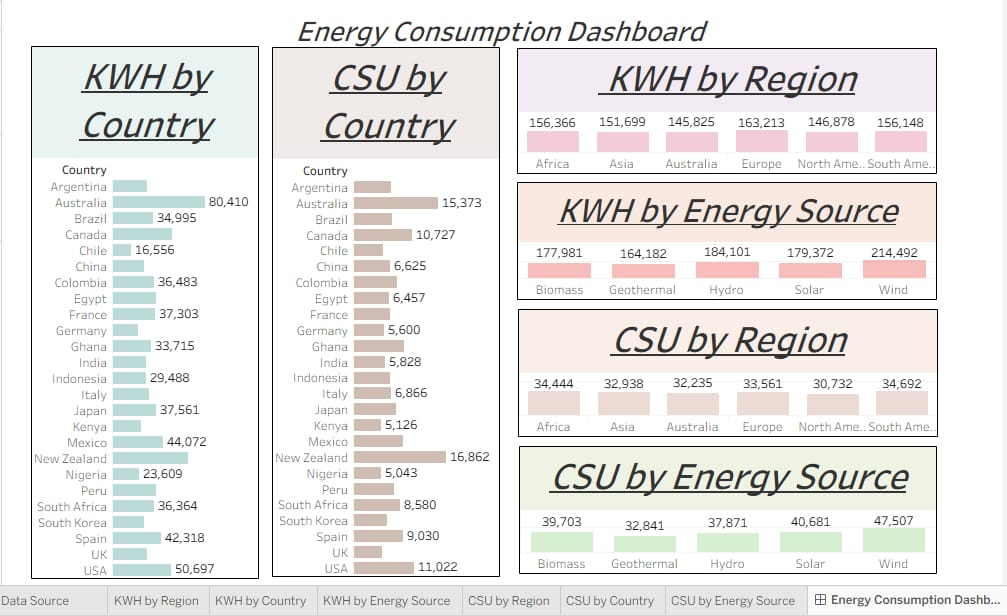

This screenshot's page, from the dashboard's own definition file:
{"tool":"tableau","page":{"name":"Energy Consumption Dashboard","canvas":[1000,800],"ordinal":0},"visuals":[{"type":"title","box":[8,8,984,45]},{"type":"worksheet","title":"KWH by Country","mark":"Automatic","rows":["COUNTRY"],"cols":["MONTHLY_USAGE_KWH"],"box":[29,46,228,533]},{"type":"worksheet","title":"CSU by Country","mark":"Automatic","rows":["COUNTRY"],"cols":["COST_SAVINGS_USD"],"box":[270,47,228,530]},{"type":"worksheet","title":"KWH by Region","mark":"Automatic","rows":["MONTHLY_USAGE_KWH"],"cols":["REGION"],"box":[515,48,420,126]},{"type":"worksheet","title":"KWH by Energy Source","mark":"Automatic","rows":["MONTHLY_USAGE_KWH"],"cols":["ENERGY_SOURCE"],"box":[515,182,420,118]},{"type":"worksheet","title":"CSU by Region","mark":"Automatic","rows":["COST_SAVINGS_USD"],"cols":["REGION"],"box":[516,309,420,128]},{"type":"worksheet","title":"CSU by Energy Source","mark":"Automatic","rows":["COST_SAVINGS_USD"],"cols":["ENERGY_SOURCE"],"box":[517,446,418,128]}]}

Visuals, with their boxes on the page's 1000x800 design canvas (x1, y1, x2, y2). These are canvas units, not pixel positions in the 1007x616 screenshot, which may show the page scaled, cropped or inside an application window:
title: 8, 8, 992, 53
"KWH by Country" worksheet: 29, 46, 257, 579
"CSU by Country" worksheet: 270, 47, 498, 577
"KWH by Region" worksheet: 515, 48, 935, 174
"KWH by Energy Source" worksheet: 515, 182, 935, 300
"CSU by Region" worksheet: 516, 309, 936, 437
"CSU by Energy Source" worksheet: 517, 446, 935, 574
